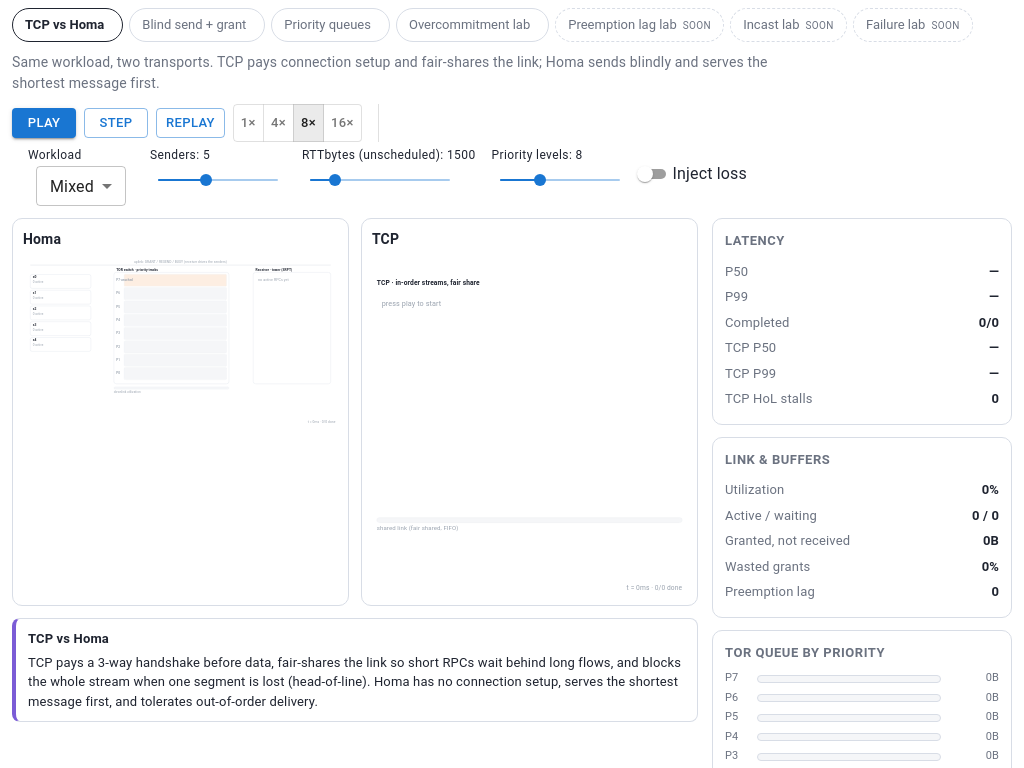
Homa view › switches to Blind send + grant and shows the 'why not schedule' overlay
The width and height of the screenshot is (1024, 768).
Click the tab "Blind send + grant" at (197, 25), box top-left (129, 8), bottom-right (265, 42)
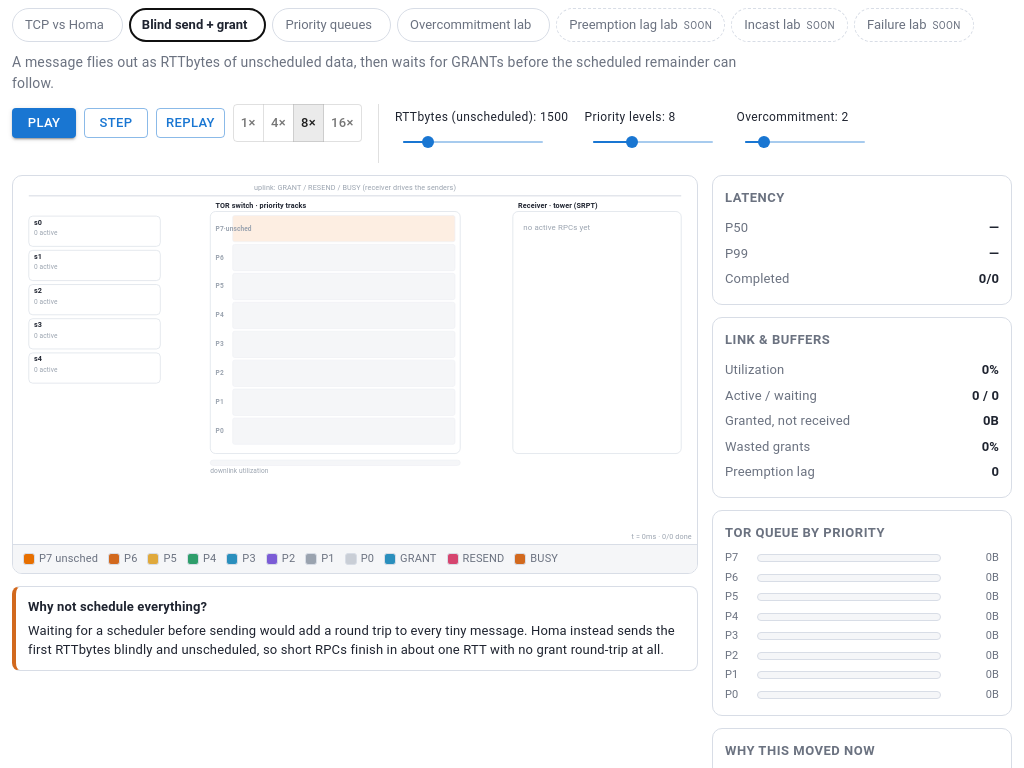
Result: the heading "Why not schedule everything?" is shown at top-left (28, 599), bottom-right (207, 614)
